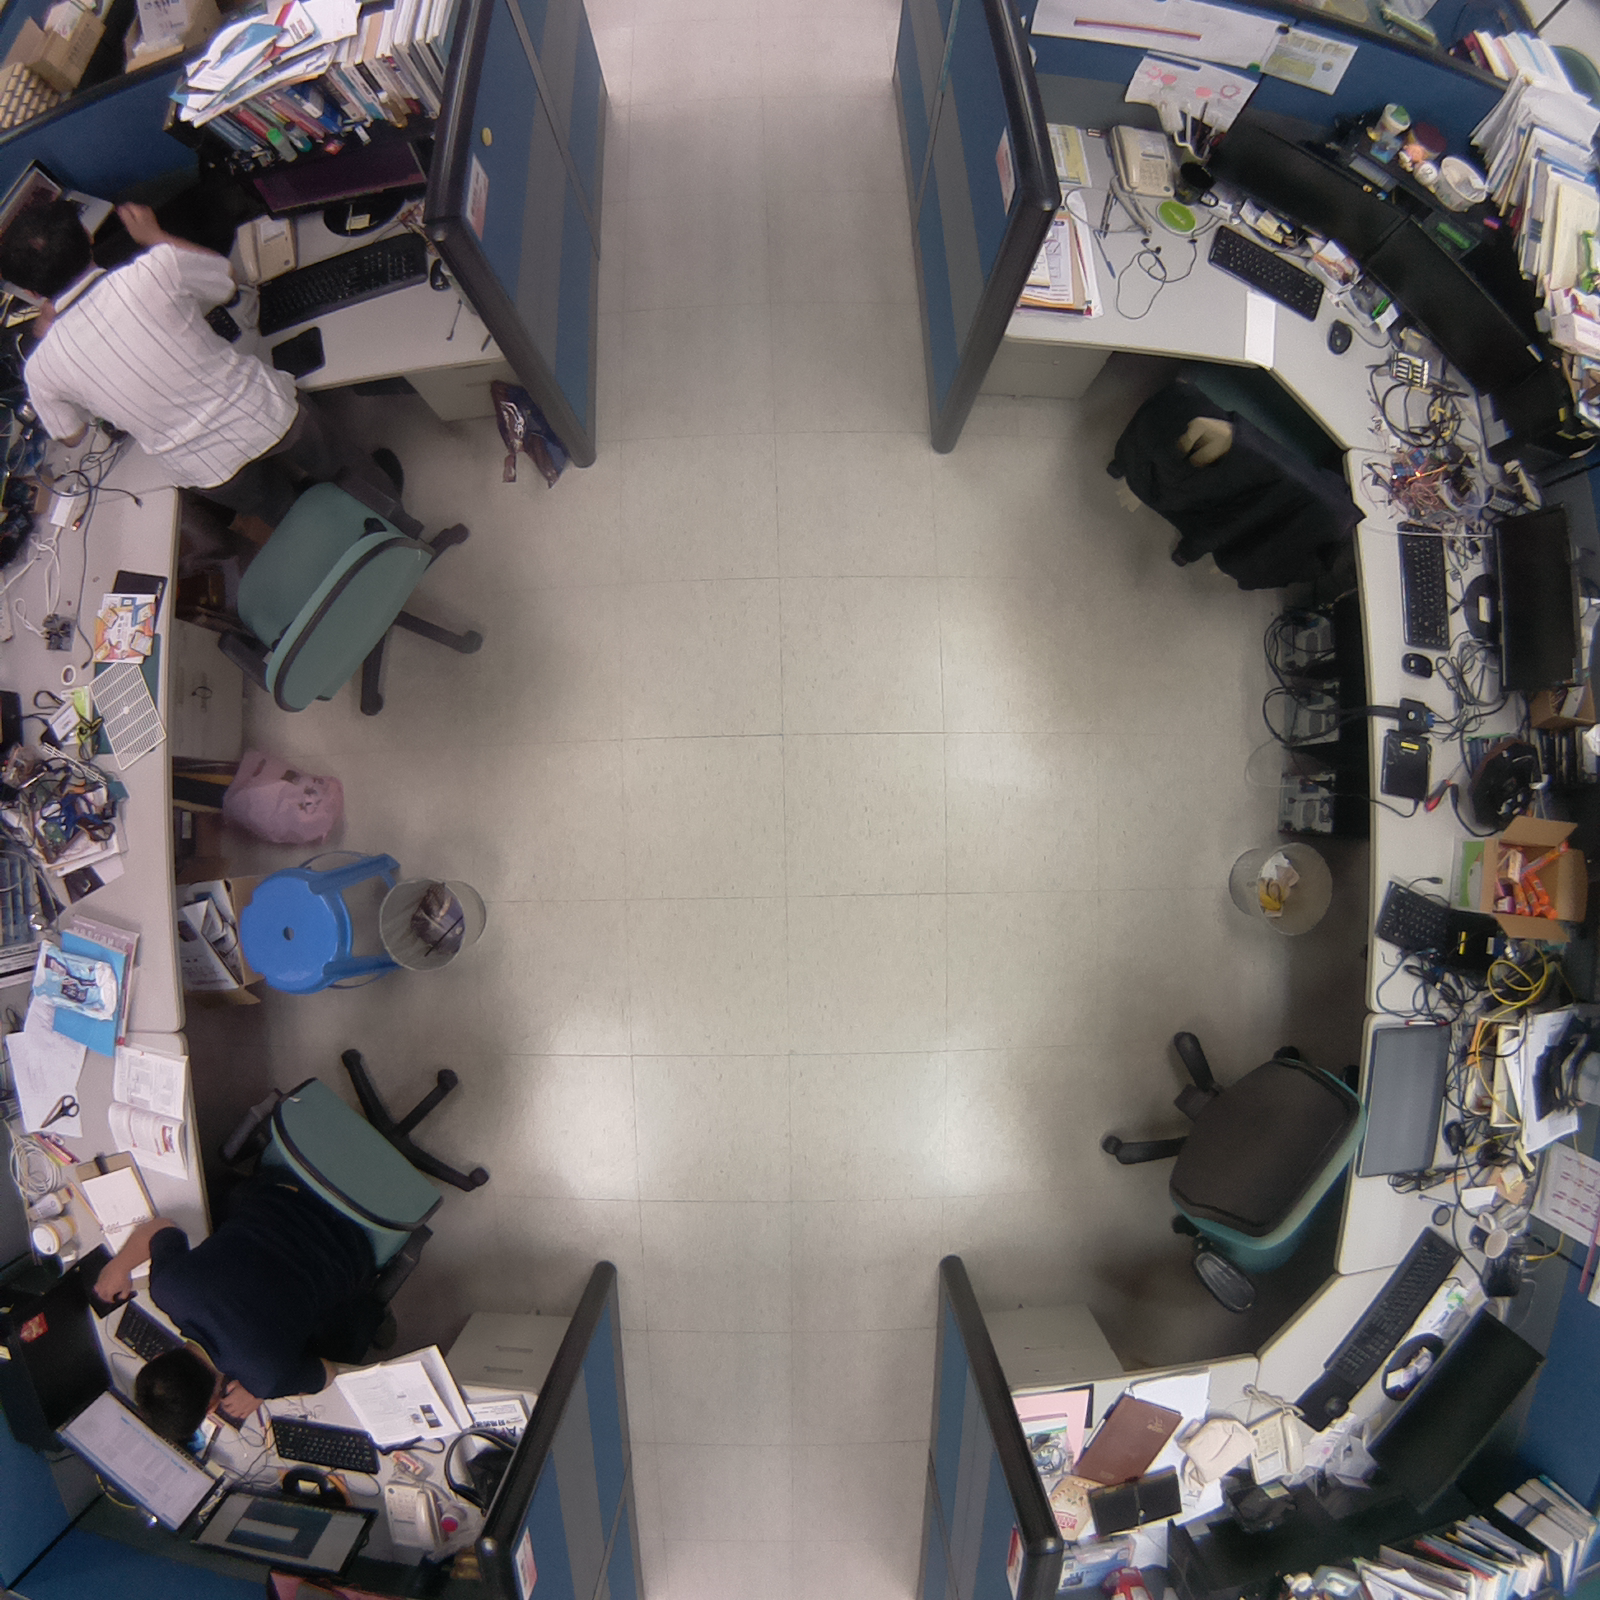chair: (1083, 1001, 1381, 1332), (209, 465, 499, 747), (1094, 340, 1383, 604)
head: (1, 187, 101, 300), (123, 1345, 221, 1447)
sitting: (87, 1037, 501, 1437)
standing: (1, 193, 410, 529)
